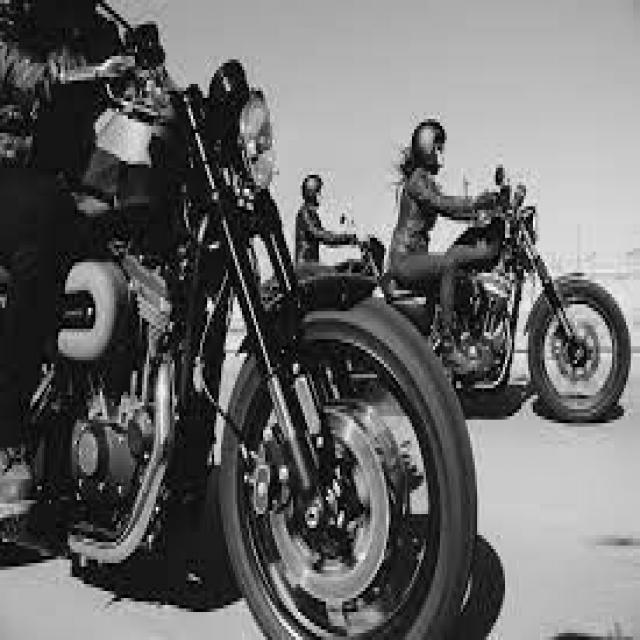Bike: (6, 46, 482, 640), (334, 164, 632, 430)
